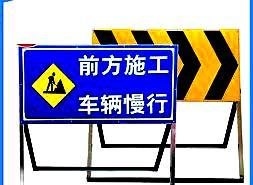sign: (21, 46, 174, 121)
